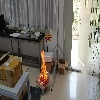fire: (39, 49, 48, 85)
